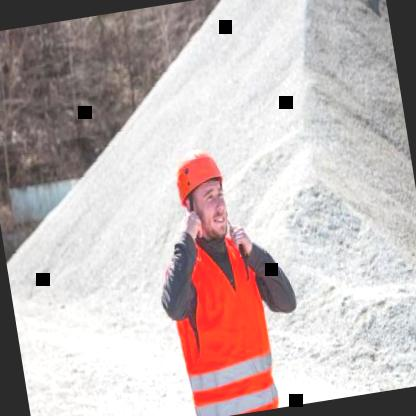helmet: (163, 135, 239, 251)
